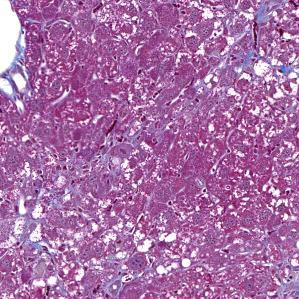fibrosis: (241, 1, 282, 64)
